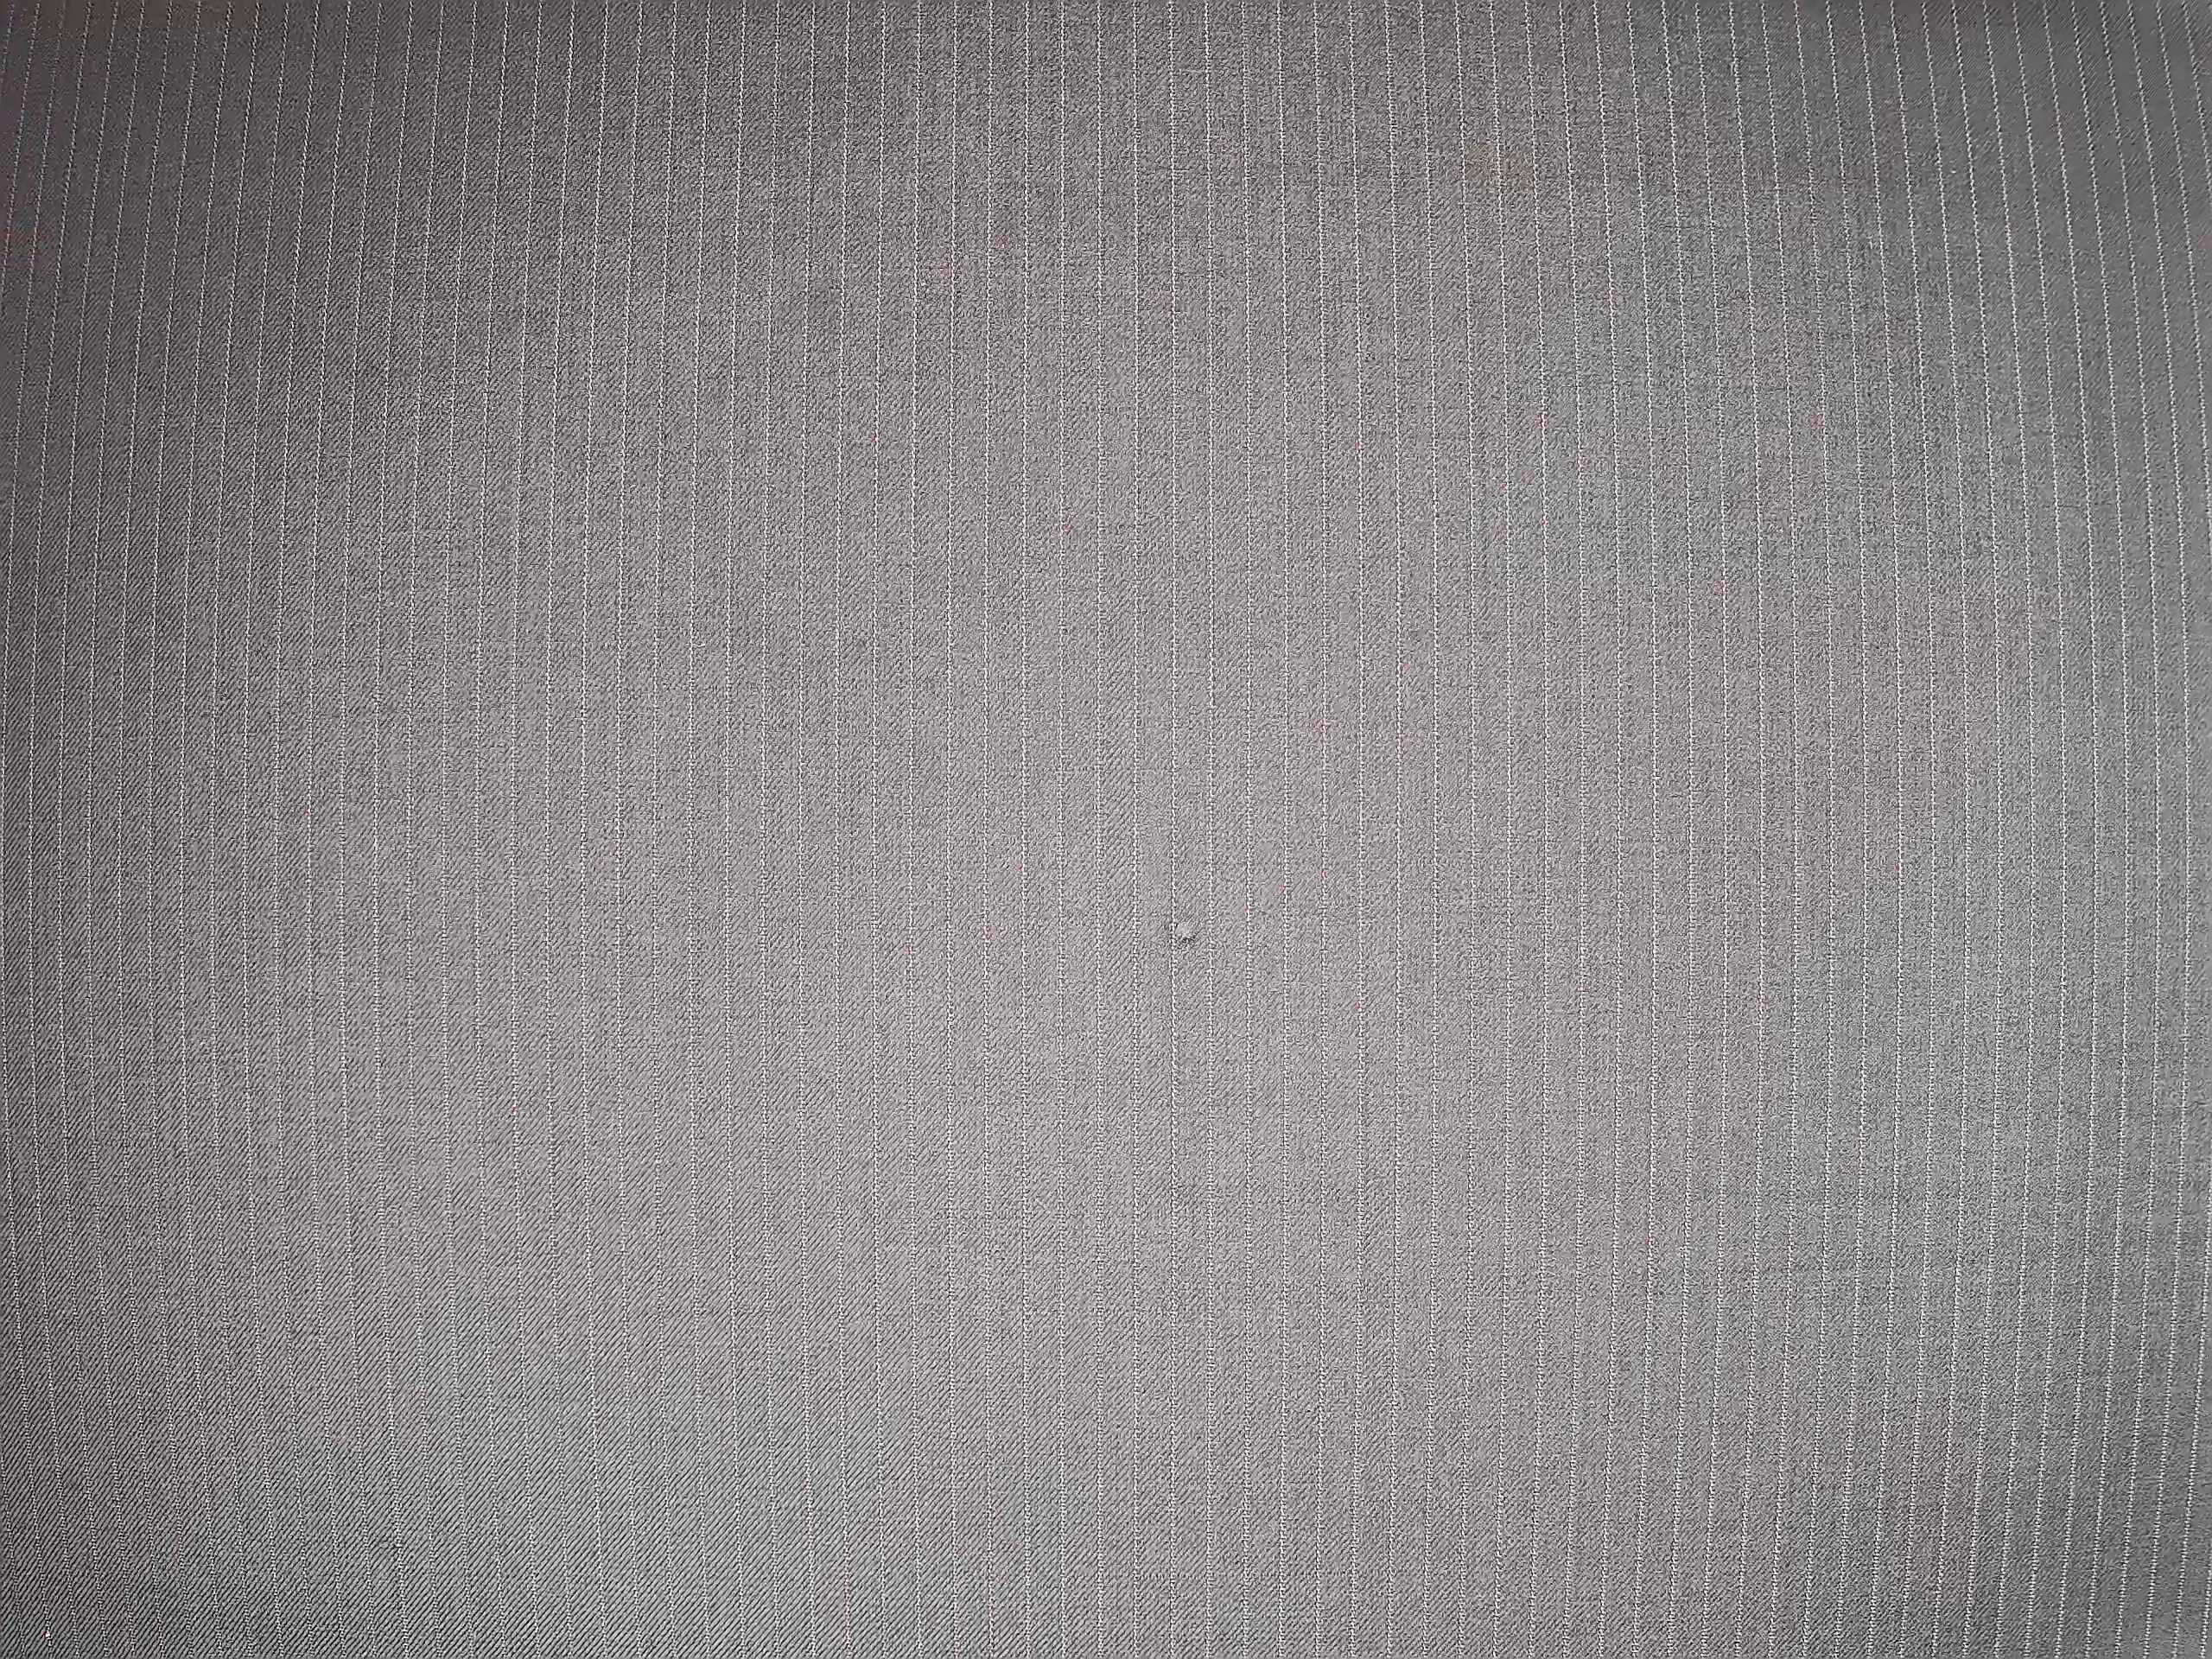others: (1146, 885, 1221, 979)
